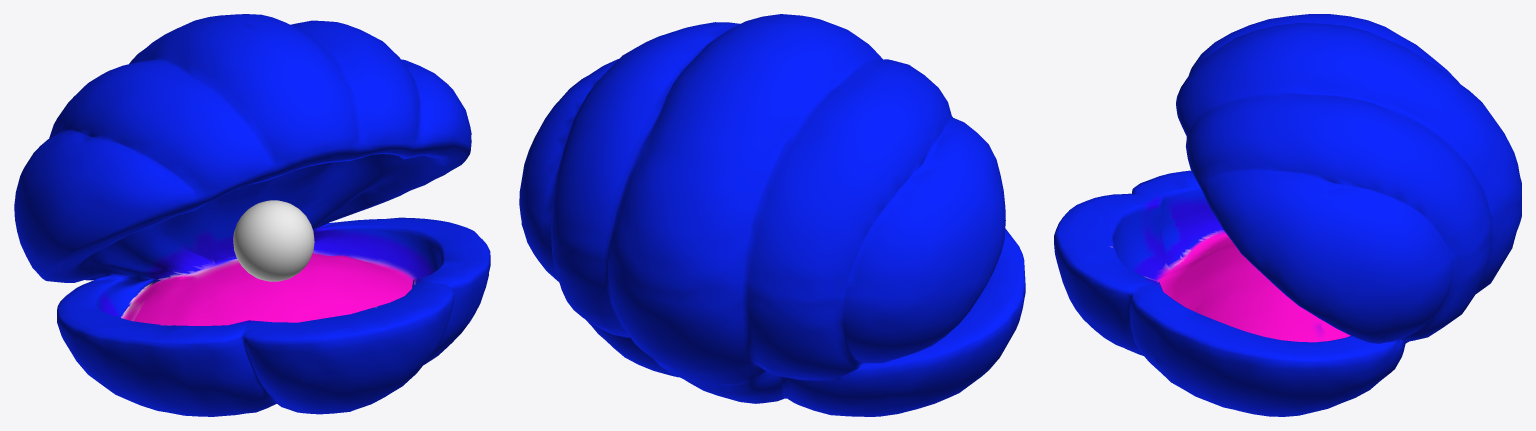
File: blueshell.glb
3 renders of one model, left to right at view 1: azimuth 30°, elevation 25°; view 2: azimuth 150°, elevation 25°; view 3: azimuth 270°, elevation 25°, orthographic. The views are drawn at different scales.
Parts seen in each view (by area): view 1: Mesh1.0, Sphere.001; view 2: Mesh1.0; view 3: Mesh1.0.
Boxes of the visible parts, x1,y1,x2,y2 form: Mesh1.0: (14,14,490,416); Sphere.001: (233,200,314,281); Mesh1.0: (519,14,1025,416); Mesh1.0: (1054,14,1521,416).
Bounding box in the file's own units: 1.91 × 1.48 × 1.89.
Materials: 2 (1 with a texture image).
